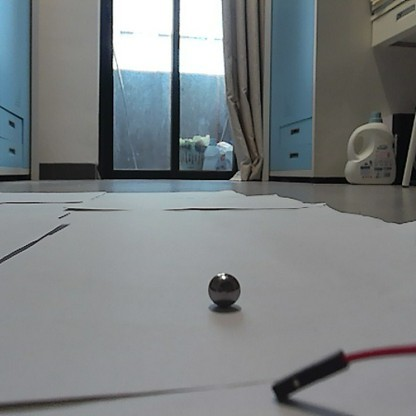ironball: (206, 268, 239, 308)
